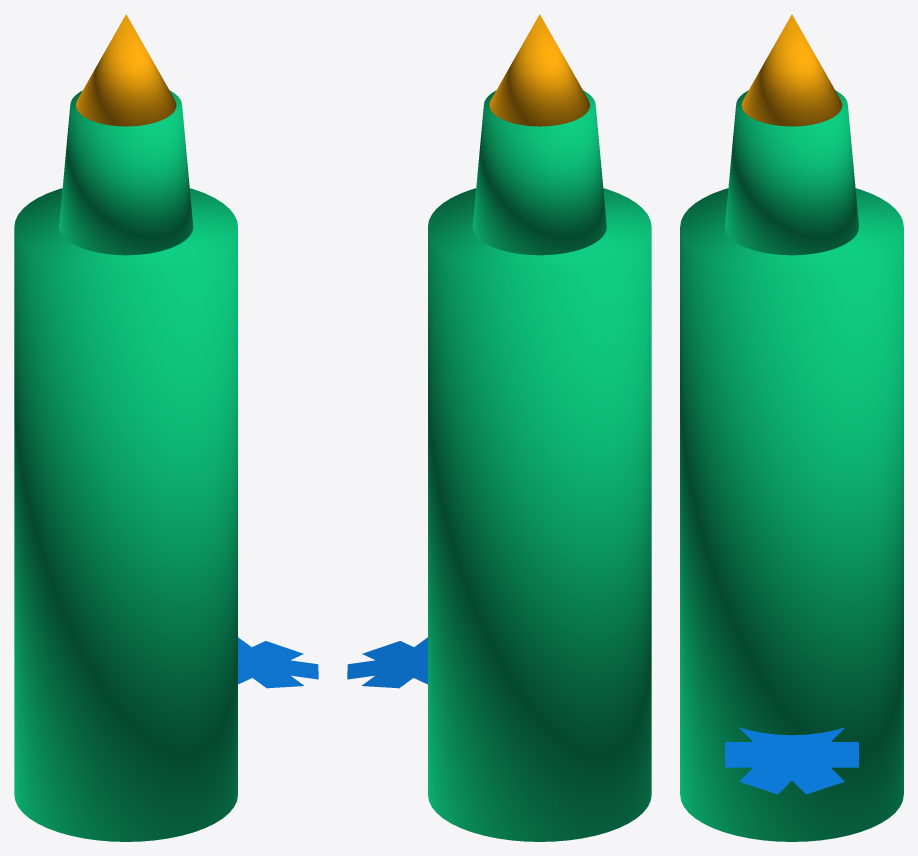
Rendered from foguete_pet.fbx.
3 renders of one model, left to right at view 1: azimuth 30°, elevation 25°; view 2: azimuth 150°, elevation 25°; view 3: azimuth 270°, elevation 25°, orthographic.
Visible parts, largest first — view 1: Foguete_PET; view 2: Foguete_PET; view 3: Foguete_PET.
Boxes of the visible parts, left/top/right/bottom form: Foguete_PET: left=14, top=14, right=318, bottom=841; Foguete_PET: left=347, top=14, right=651, bottom=841; Foguete_PET: left=680, top=14, right=903, bottom=841.
Size of the model in its own units: 14.55 by 38.5 by 10.
